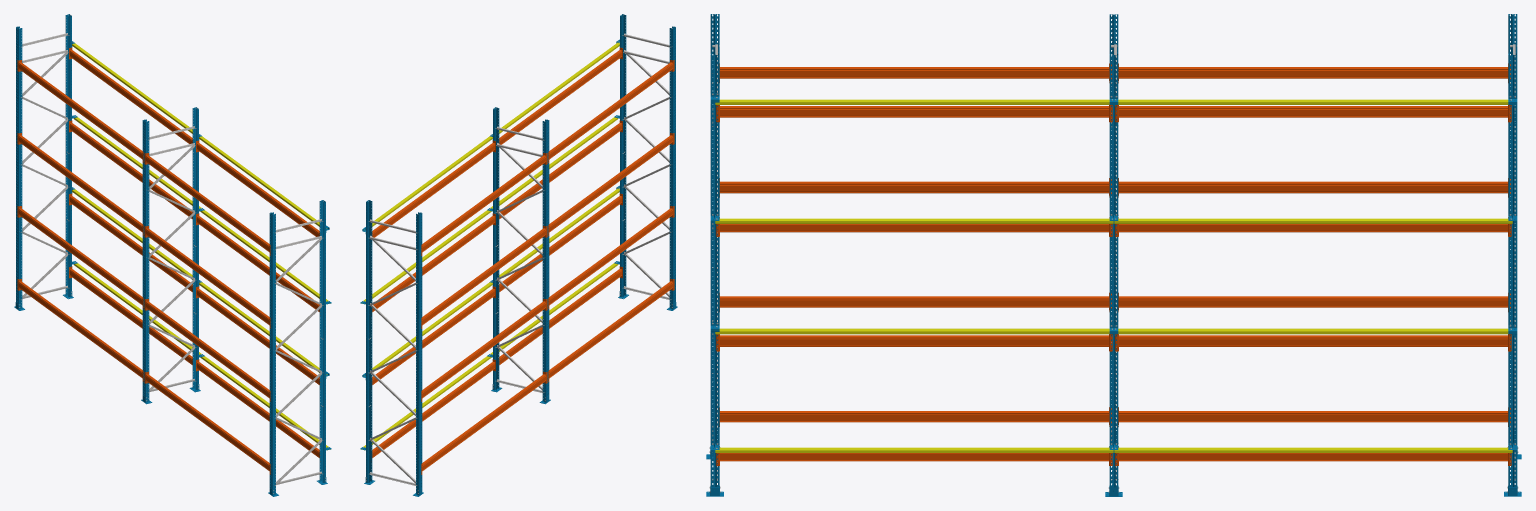
Rendered from UNIT.glb.
3 renders of one model, left to right at view 1: azimuth 30°, elevation 25°; view 2: azimuth 150°, elevation 25°; view 3: azimuth 270°, elevation 25°, orthographic. The views are drawn at different scales.
Visible parts, largest first — view 1: Solid1 (×30); view 2: Solid1 (×30); view 3: Solid1 (×27).
Part boxes in pixels (x1=…): Solid1 (×30): x1=16, y1=14, x2=330, y2=494; Solid1 (×30): x1=361, y1=14, x2=675, y2=494; Solid1 (×27): x1=710, y1=52, x2=1517, y2=487.
Bounding box in the file's own units: 1.12 × 5.01 × 8.38.
